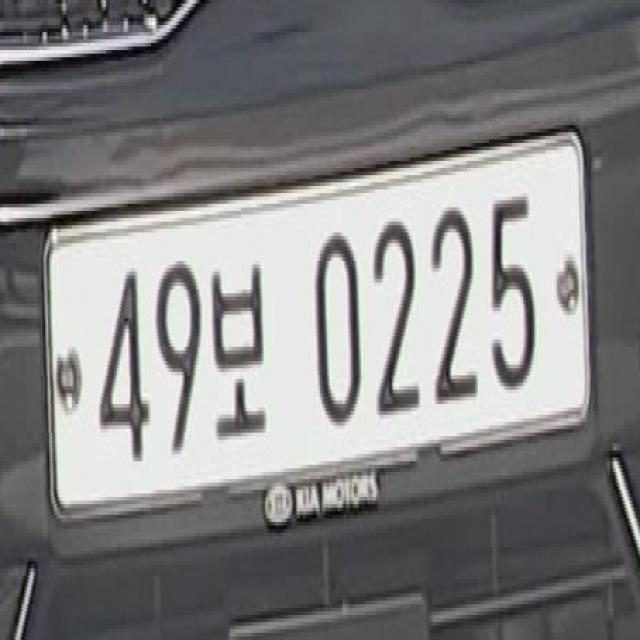0: (312, 206, 363, 434)
2: (371, 203, 420, 424), (429, 193, 475, 420)
4: (100, 255, 151, 480)
5: (484, 170, 544, 396)
9: (157, 248, 202, 470)
bo: (208, 232, 278, 457)
license_plate: (30, 112, 598, 552)
